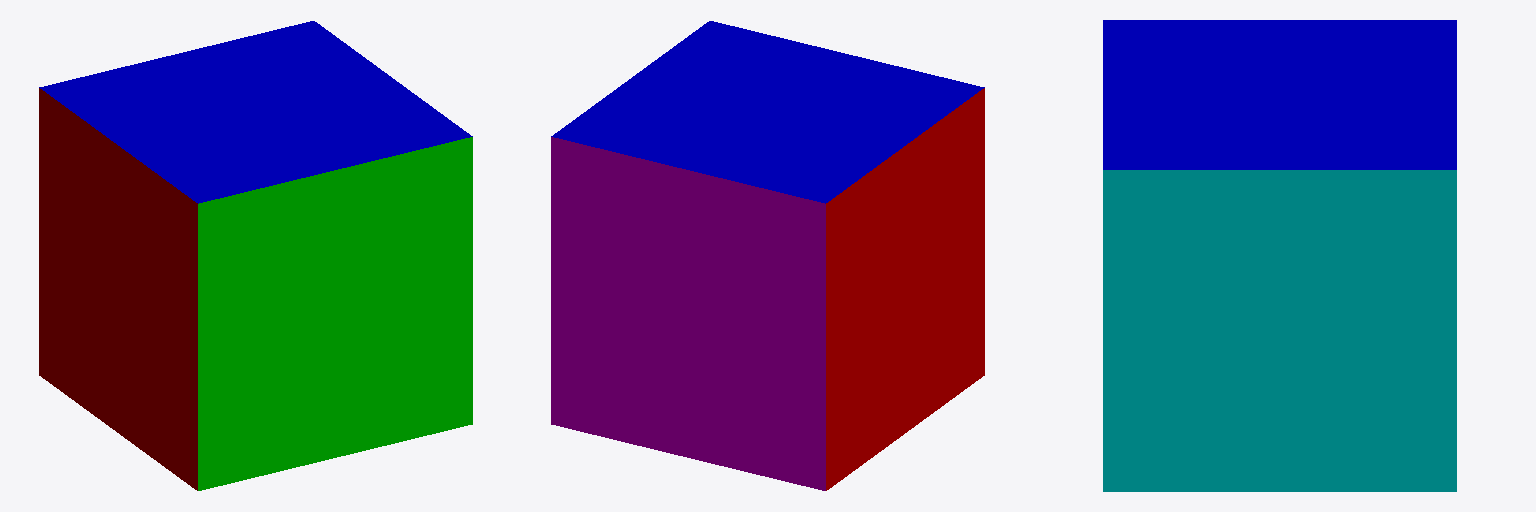
robot.urdf — box:
<robot name="box">
  <link name="base_link">
    <visual>
      <origin xyz="0 0 0" rpy="0 0 0" />
      <geometry>
        <mesh filename="package://hpp_tutorial/meshes/box.dae"/>
      </geometry>
    </visual>
    <collision>
      <origin xyz="0 0 0" rpy="0 0 0" />
      <geometry>
        <mesh filename="package://hpp_tutorial/meshes/box.dae"/>
      </geometry>
    </collision>
  </link>
</robot>

--- Render facts (derived) ---
3 views of the same robot in one strip: view 1: azimuth 30°, elevation 25°; view 2: azimuth 150°, elevation 25°; view 3: azimuth 270°, elevation 25° (orthographic).
Model box with 1 links and 0 joints (none), rooted at base_link, posed all joints at 0.
Links seen in each view (by area): view 1: base_link; view 2: base_link; view 3: base_link.
Link boxes in pixels (x1,y1,x2,y2): base_link: (39,21,472,490); base_link: (551,21,984,490); base_link: (1103,20,1456,491).
Bounding box of the posed robot: 2 × 2 × 2 m (x, y, z).
1 mesh visuals loaded from 1 distinct referenced files (1 Collada DAE).